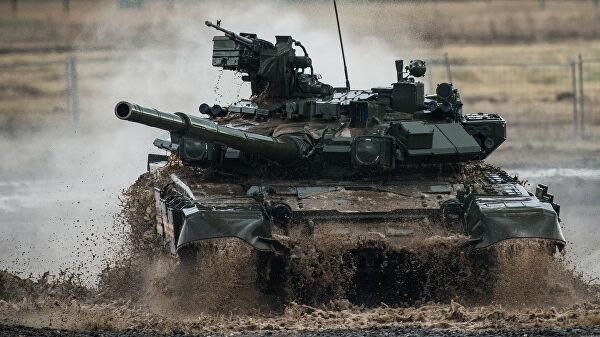tank: (116, 16, 584, 319)
